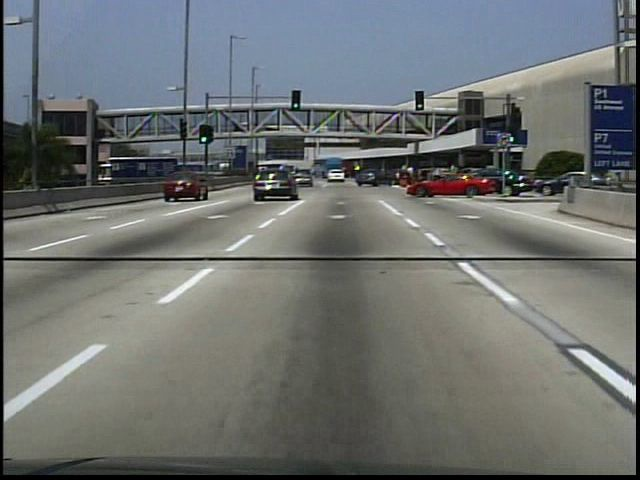person: (235, 122, 242, 136)
